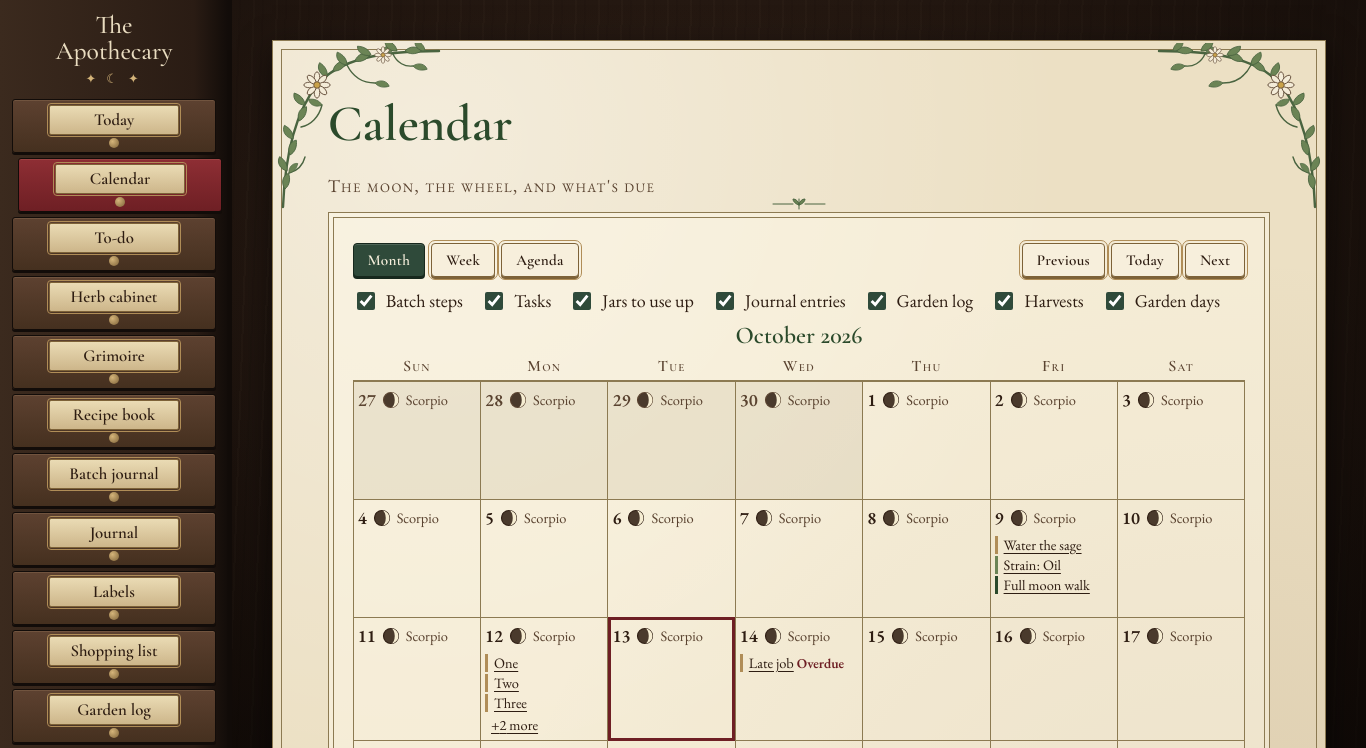
Test: shows journal entries and hides them with the Journal entries filter
Expected: the heading "Calendar" is shown, [328,93,512,155]
Click the checkbox labelled "Journal entries" at (725, 301), box [716,292,734,310]
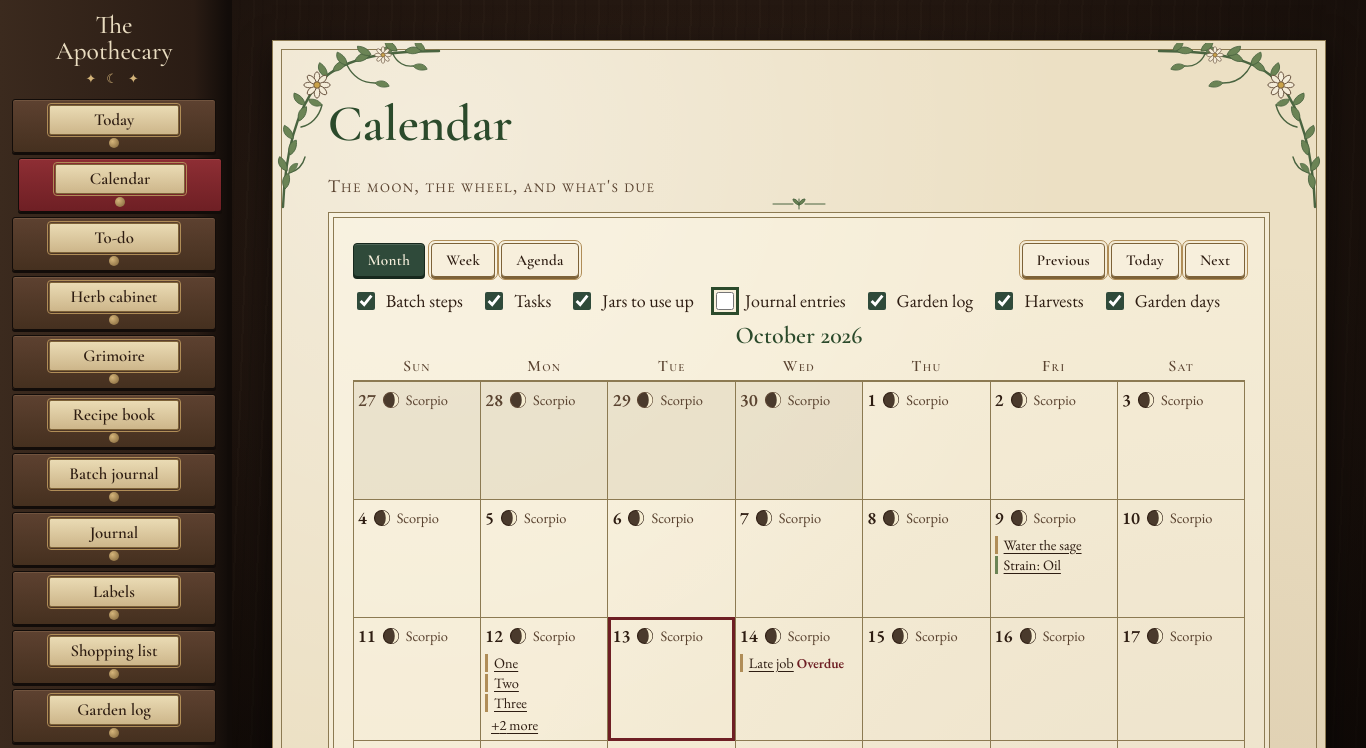
Result: the cell named "Friday, October 9" no longer shows "Full moon walk" at [990,500,1118,618]
